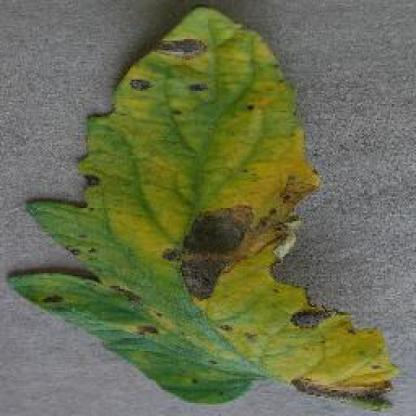Tomato_Blight: (11, 6, 392, 407)
